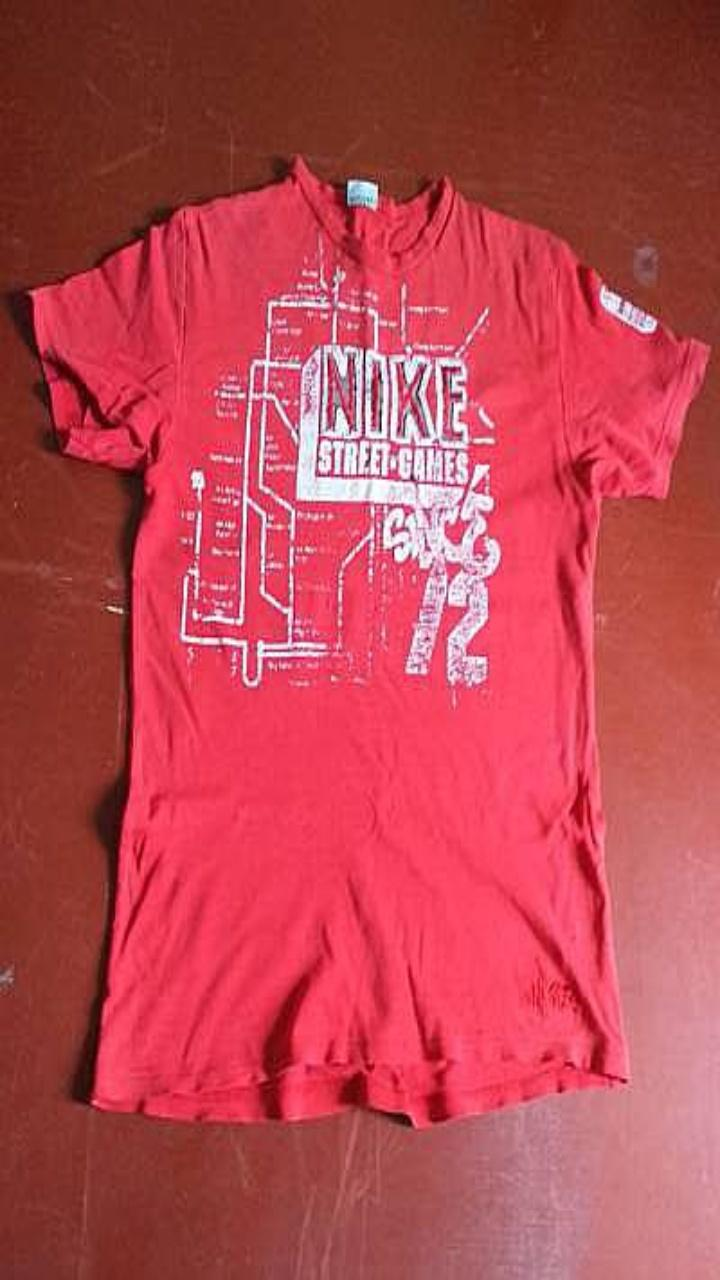T-Shirt: (27, 154, 709, 1127)
